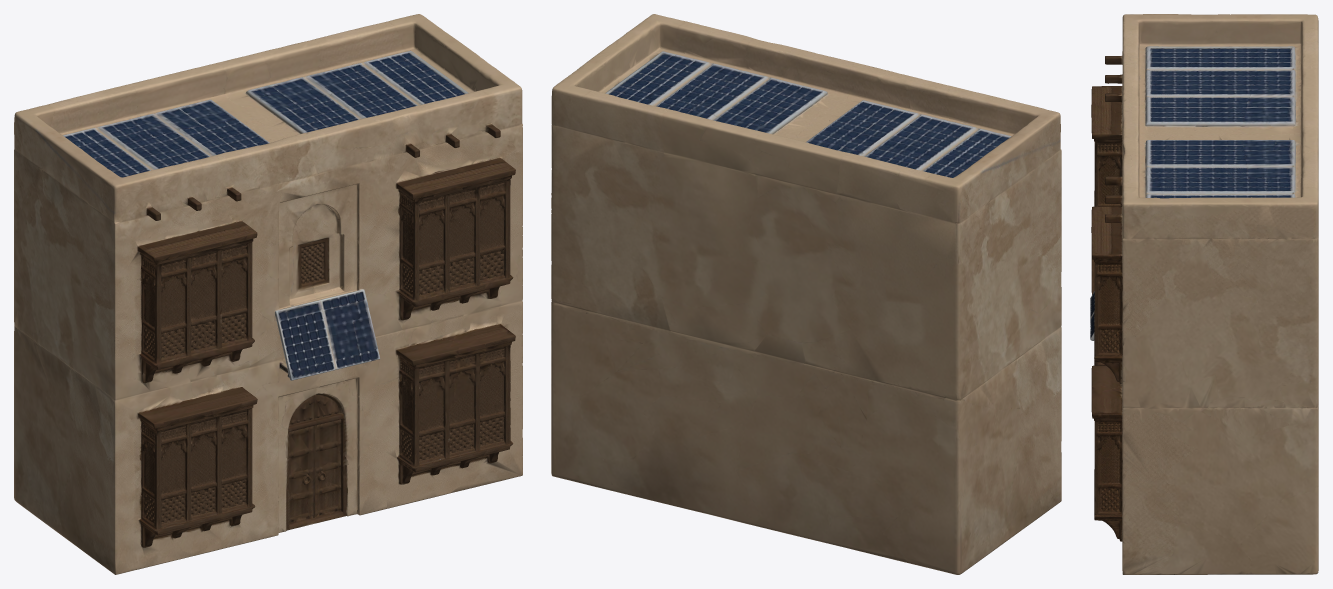
The model's file is heritage.glb.
3 renders of one model, left to right at view 1: azimuth 30°, elevation 25°; view 2: azimuth 150°, elevation 25°; view 3: azimuth 270°, elevation 25°, orthographic. The views are drawn at different scales.
Parts seen in each view (by area): view 1: mesh_node; view 2: mesh_node; view 3: mesh_node.
Part boxes in pixels (x1,y1,x2,y2): mesh_node: (14,14,522,574); mesh_node: (551,14,1061,574); mesh_node: (1090,14,1318,574).
Size of the model in its own units: 1.9 by 1.73 by 0.9646.
Materials: 1 (1 with a texture image).
